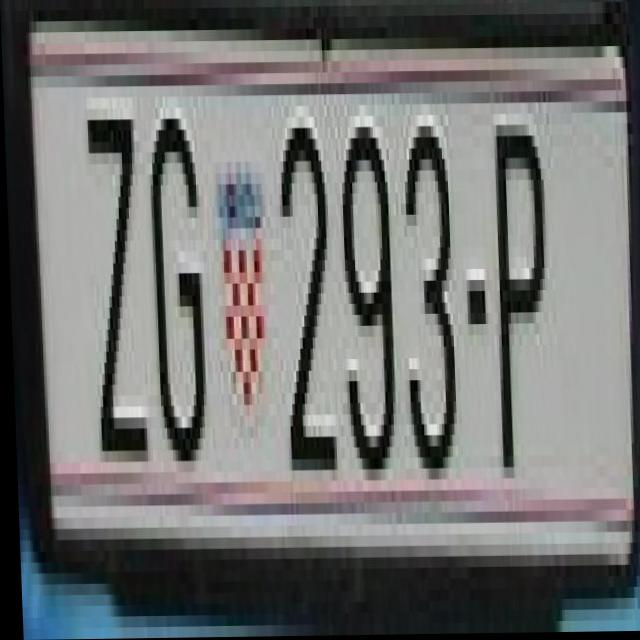2: (268, 107, 332, 482)
3: (399, 105, 458, 481)
9: (331, 117, 395, 482)
G: (144, 97, 206, 473)
P: (484, 104, 556, 480)
Z: (81, 98, 150, 474)
